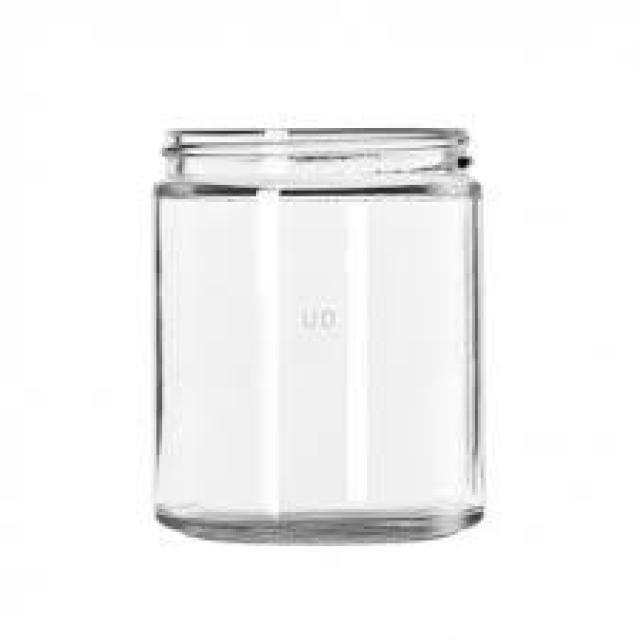Glass: (150, 125, 488, 548)
